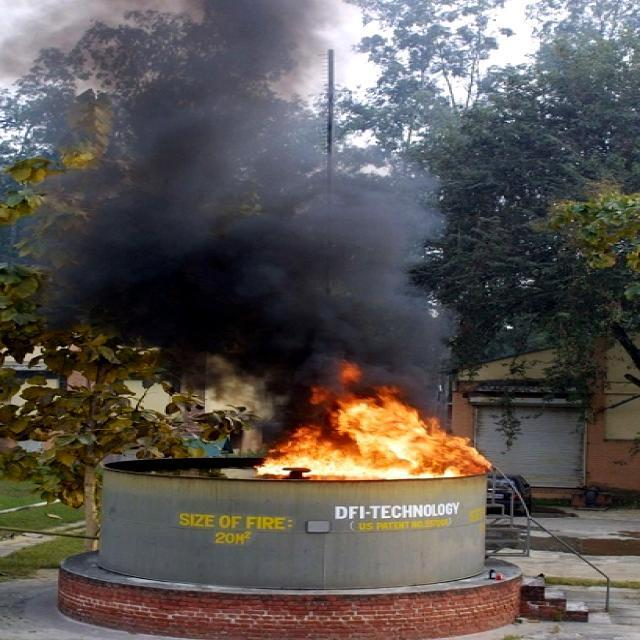Fire: (256, 386, 484, 484)
Smoke: (40, 0, 498, 400)
